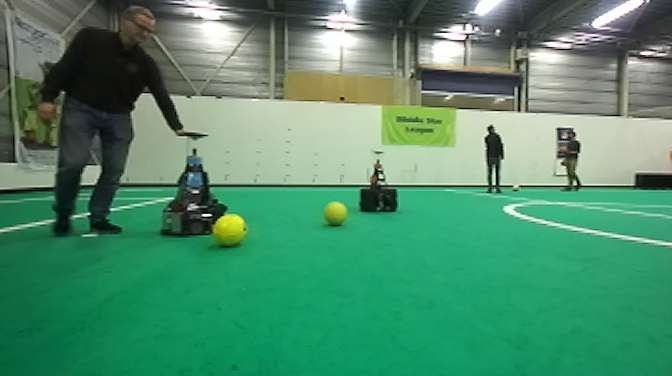ball: (211, 212, 247, 250), (322, 200, 348, 228), (510, 182, 521, 192), (556, 143, 566, 154)
human: (36, 5, 199, 239), (479, 123, 506, 194), (558, 128, 583, 191)
robot: (159, 133, 230, 237), (358, 150, 399, 214)
